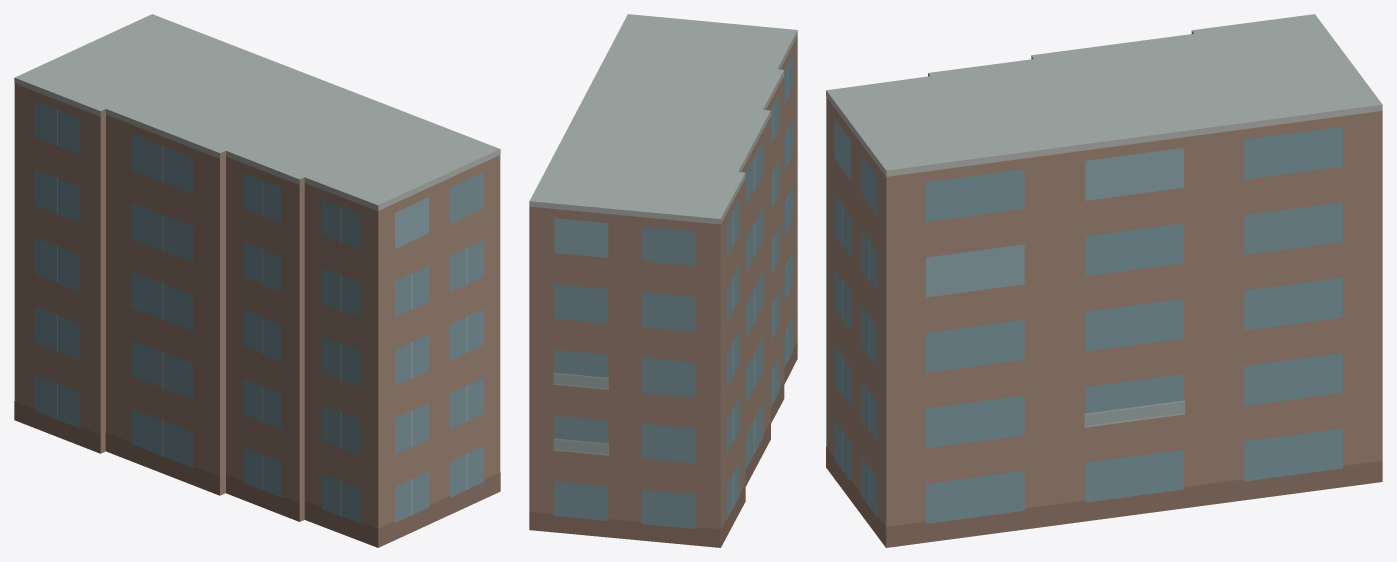
The model's file is survey-upis-33031482.glb.
3 renders of one model, left to right at view 1: azimuth 30°, elevation 25°; view 2: azimuth 150°, elevation 25°; view 3: azimuth 270°, elevation 25°, orthographic. The views are drawn at different scales.
Parts seen in each view (by area): view 1: survey-upis-33031482.tmp; view 2: survey-upis-33031482.tmp; view 3: survey-upis-33031482.tmp.
Boxes of the visible parts, box(x1,y1,x2,y2) form: survey-upis-33031482.tmp: box(14, 14, 500, 547); survey-upis-33031482.tmp: box(529, 14, 797, 547); survey-upis-33031482.tmp: box(826, 14, 1382, 547).
Size of the model in its own units: 13.1 by 14.7 by 19.66.
